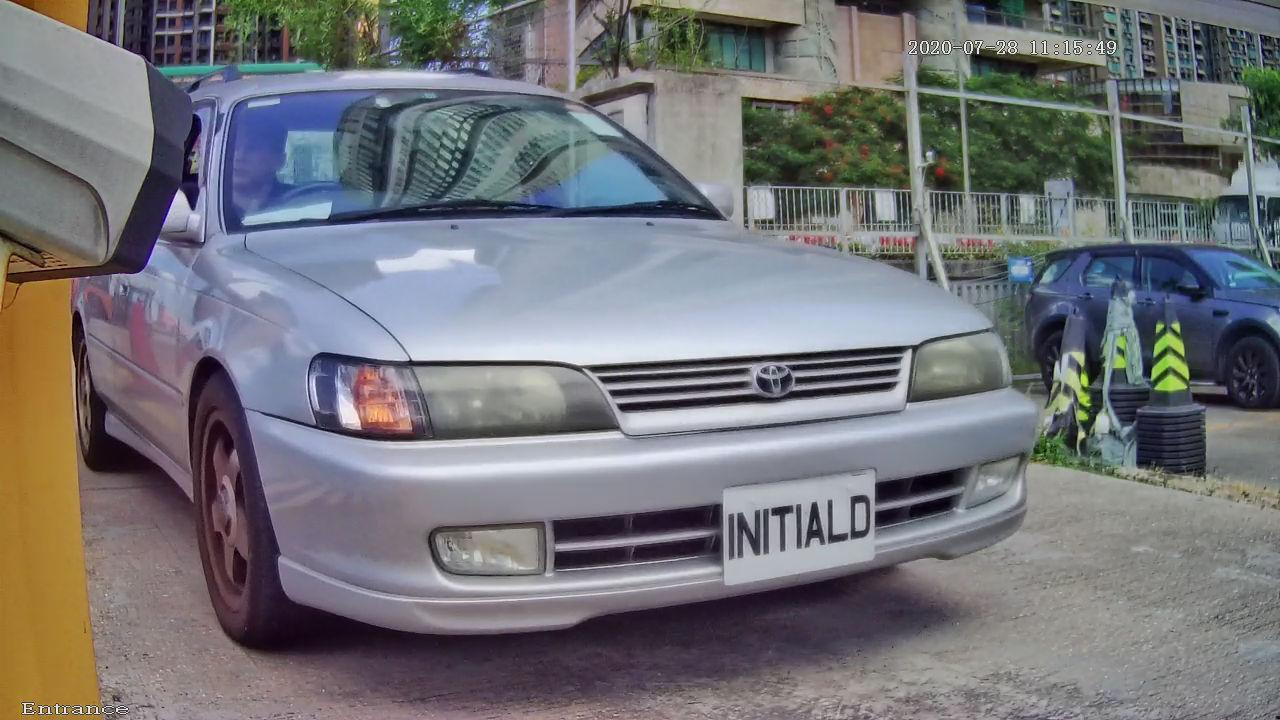privatecar: (41, 26, 1195, 663)
